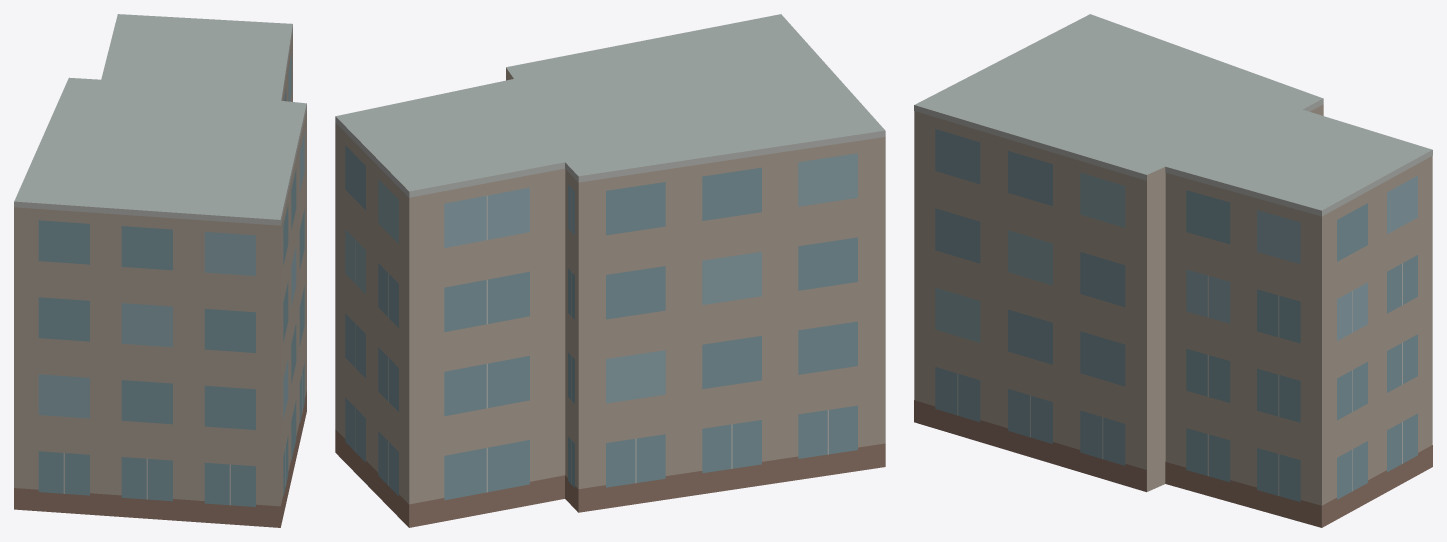
The model's file is survey-upis-33005438.glb.
3 views of the same model, side by side, from view 1: azimuth 30°, elevation 25°; view 2: azimuth 150°, elevation 25°; view 3: azimuth 270°, elevation 25° (orthographic). The views are drawn at different scales.
Parts seen in each view (by area): view 1: survey-upis-33005438.tmp; view 2: survey-upis-33005438.tmp; view 3: survey-upis-33005438.tmp.
Part boxes in pixels (x1,y1,x2,y2): survey-upis-33005438.tmp: (14,14,306,527); survey-upis-33005438.tmp: (335,14,885,527); survey-upis-33005438.tmp: (914,14,1432,527).
Bounding box in the file's own units: 17.56 × 13.2 × 19.57.
